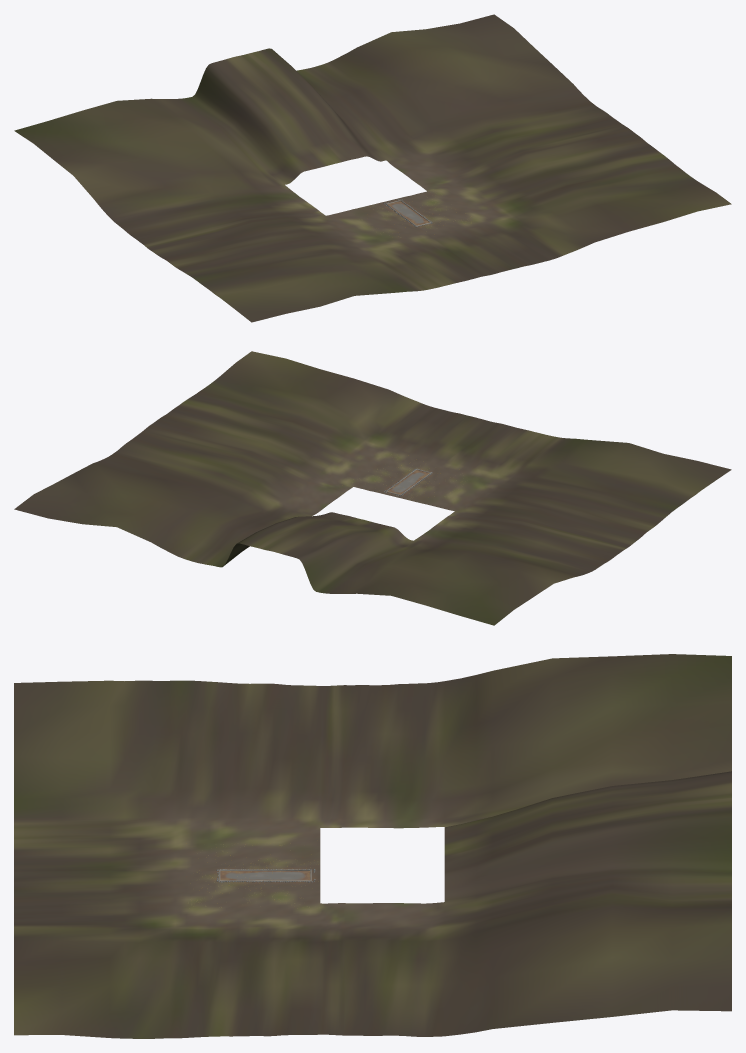
The model's file is court.glb.
3 renders of one model, top to bottom at view 1: azimuth 30°, elevation 25°; view 2: azimuth 150°, elevation 25°; view 3: azimuth 270°, elevation 25°, orthographic. The views are drawn at different scales.
Parts seen in each view (by area): view 1: court_surround; view 2: court_surround; view 3: court_surround, court_gravel.
Boxes of the visible parts, box(x1,y1,x2,y2) form: court_surround: box(14, 14, 731, 322); court_surround: box(14, 351, 731, 625); court_surround: box(14, 654, 731, 1038); court_gravel: box(220, 871, 310, 880).
Size of the model in its own units: 140 by 13.61 by 120.
